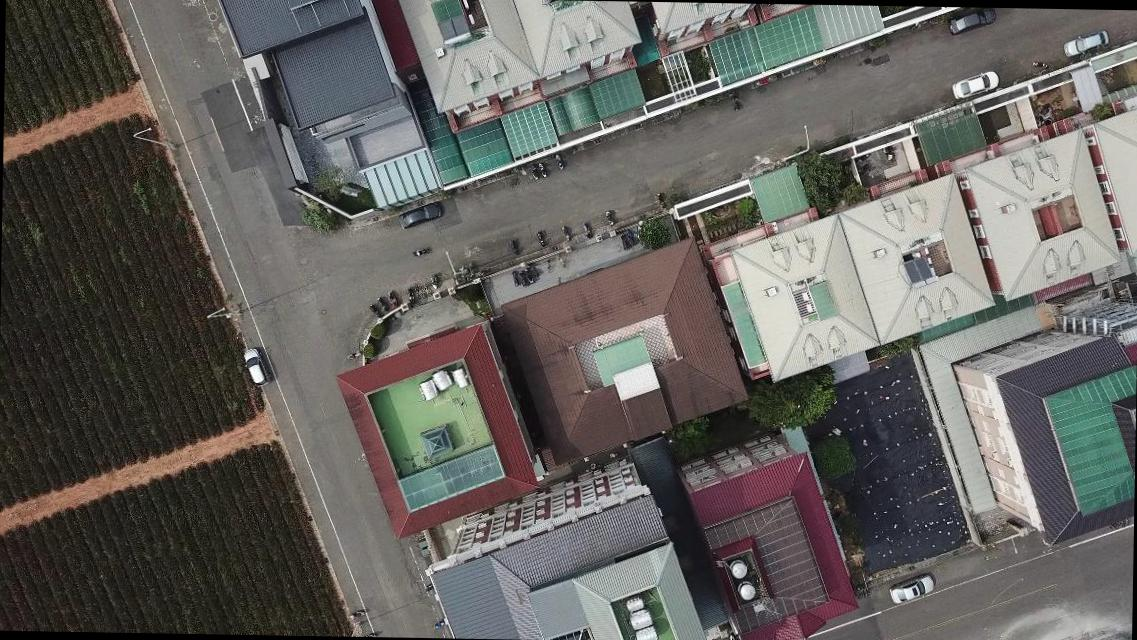vehicle: (943, 7, 999, 38), (951, 68, 1000, 102), (887, 574, 936, 606), (398, 202, 444, 233), (1063, 28, 1110, 58), (238, 348, 270, 387)
